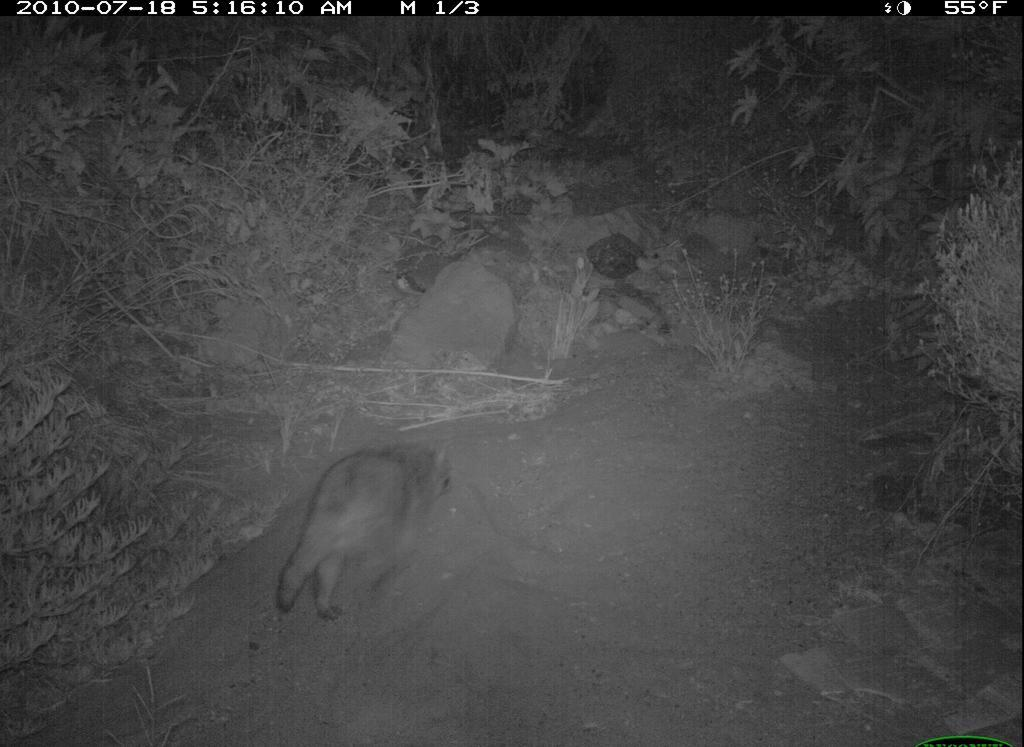raccoon: (272, 436, 464, 632)
